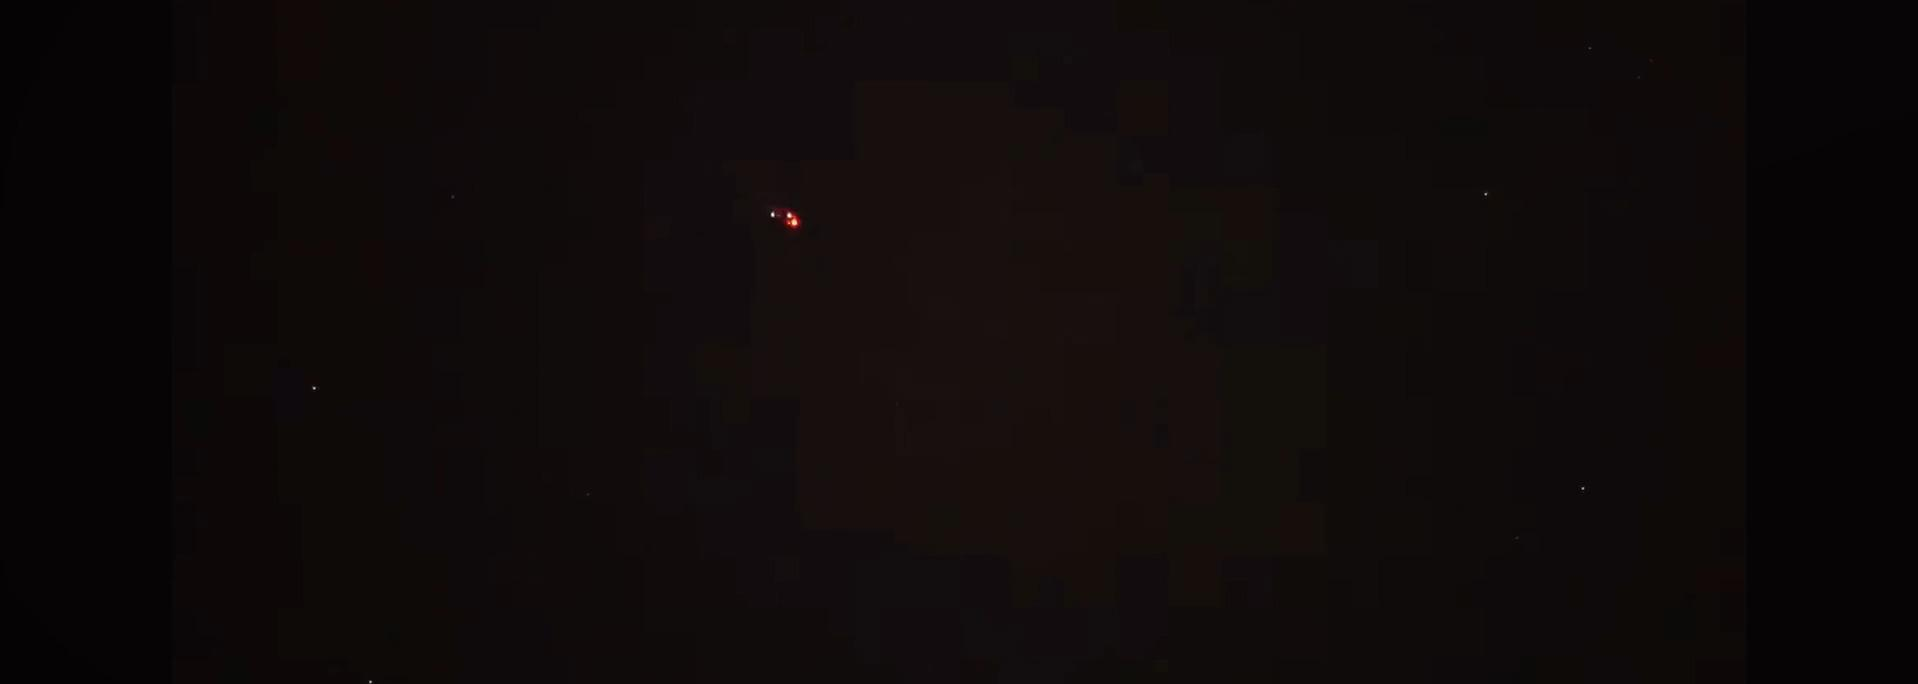Plane: (738, 190, 843, 245)
